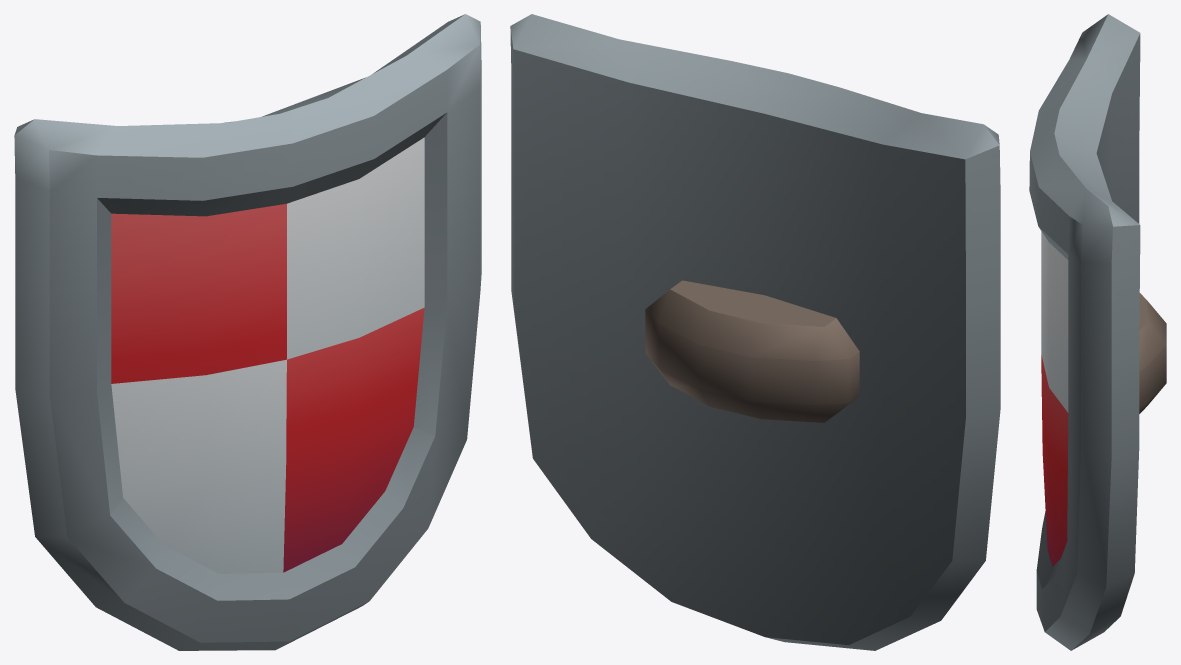
Rendered from shield_badge_color.glb.
3 renders of one model, left to right at view 1: azimuth 30°, elevation 25°; view 2: azimuth 150°, elevation 25°; view 3: azimuth 270°, elevation 25°, orthographic. The views are drawn at different scales.
Parts seen in each view (by area): view 1: shield_badge_color; view 2: shield_badge_color; view 3: shield_badge_color.
Part boxes in pixels (bbox=[...]): shield_badge_color: bbox=[14, 14, 481, 650]; shield_badge_color: bbox=[510, 14, 1000, 650]; shield_badge_color: bbox=[1029, 14, 1166, 650].
Size of the model in its own units: 0.8826 by 1.02 by 0.2459.
1 material, 1 textured.
